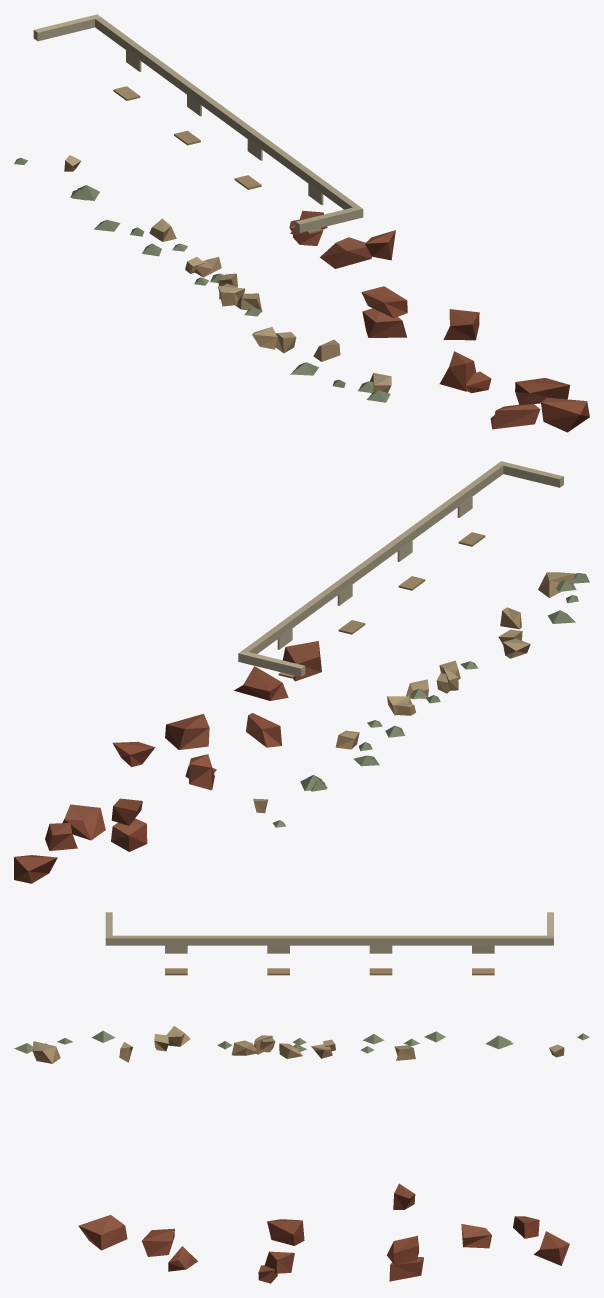
Rendered from viga_pivot_detail1.glb.
The picture shows the model from 3 angles, top to bottom: view 1: azimuth 30°, elevation 25°; view 2: azimuth 150°, elevation 25°; view 3: azimuth 270°, elevation 25°; orthographic projection. The views are drawn at different scales.
Visible parts, largest first — view 1: viga_pivot_detail1; view 2: viga_pivot_detail1; view 3: viga_pivot_detail1.
Part boxes in pixels (x1=…): viga_pivot_detail1: x1=14, y1=14, x2=589, y2=432; viga_pivot_detail1: x1=14, y1=461, x2=589, y2=883; viga_pivot_detail1: x1=14, y1=912, x2=589, y2=1283.
Bounding box in the file's own units: 13.16 × 12.48 × 25.32.
